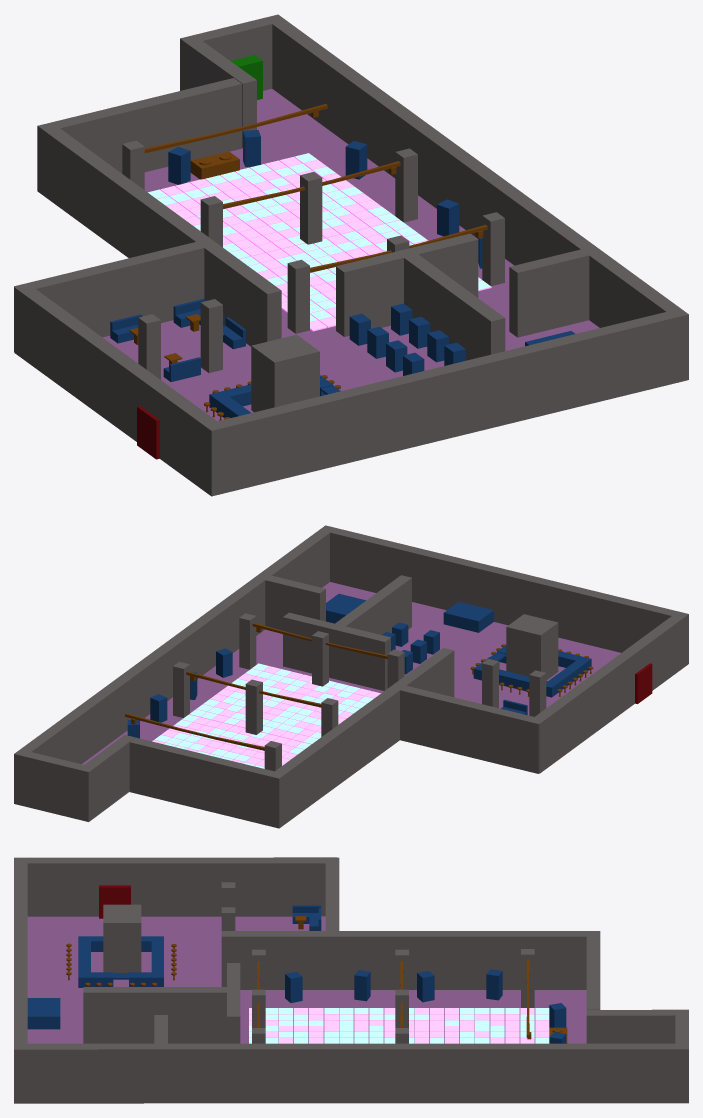
Rendered from tds chars.fbx.
3 views of the same model, one above another, from view 1: azimuth 30°, elevation 25°; view 2: azimuth 150°, elevation 25°; view 3: azimuth 270°, elevation 25° (orthographic). The views are drawn at different scales.
Parts seen in each view (by area): view 1: Cube.061, Cube.001, Cube.002; view 2: Cube.061, Cube.001, Cube.002; view 3: Cube.061, Cube.001, Cube.002.
Boxes of the visible parts, <box> form: Cube.061: <box>14,14,688,496</box>; Cube.001: <box>148,153,491,330</box>; Cube.002: <box>157,157,491,331</box>; Cube.061: <box>14,525,688,828</box>; Cube.001: <box>152,663,380,768</box>; Cube.002: <box>155,666,373,766</box>; Cube.061: <box>14,857,688,1103</box>; Cube.001: <box>249,1008,549,1043</box>; Cube.002: <box>249,1014,548,1037</box>.
Size of the model in its own units: 4270 by 557 by 6304.
